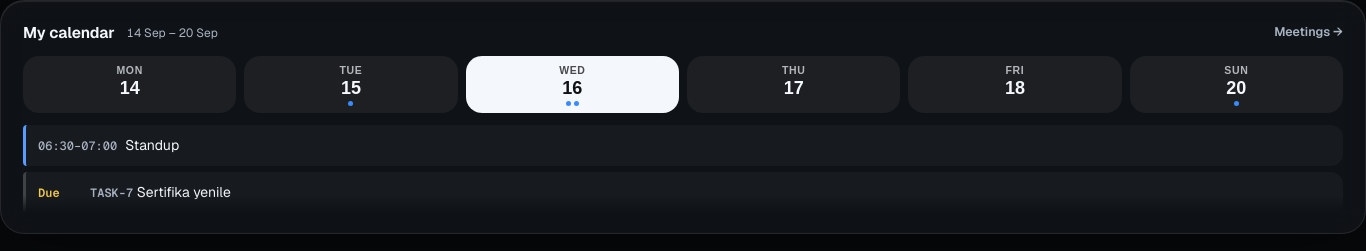
Scenario: Takvimim blogu › gun kolonlari, iki kaynak ve baglantilar
The width and height of the screenshot is (1366, 251).
Expected: the heading "My calendar" is shown, top-left (23, 21), bottom-right (115, 44)
Expected: the text "14 Sep – 20 Sep" is shown, top-left (127, 24), bottom-right (218, 42)
// Sal cipi → yalniz Sal.
Click the button with class "home-week__chip" showing "Tue 15" at (351, 85), box top-left (244, 56), bottom-right (458, 113)
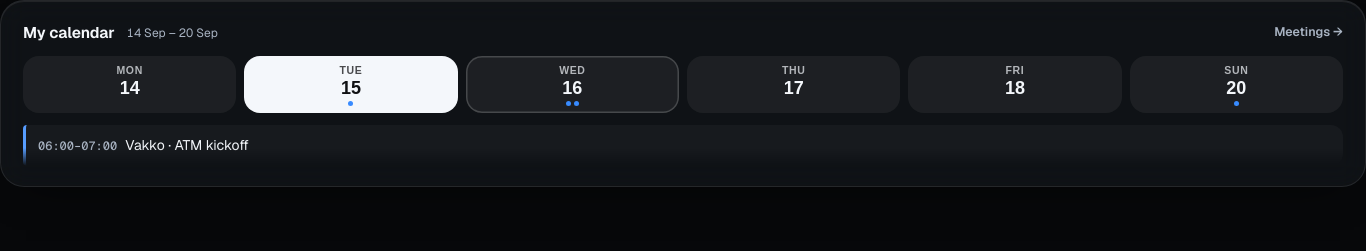
Result: the link "Standup" is gone
// Bos gun secilirse "Nothing planned".
Click the button with class "home-week__chip" showing "Thu 17" at (794, 85), box top-left (687, 56), bottom-right (900, 113)
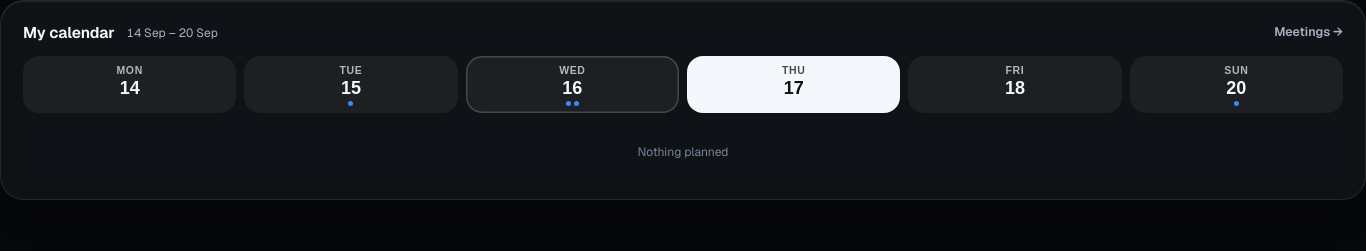
Result: the text "Nothing planned" is shown at top-left (638, 144), bottom-right (728, 160)
